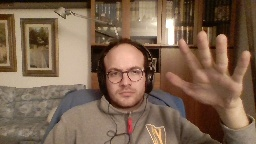Mano_aperta: (161, 28, 254, 110)
